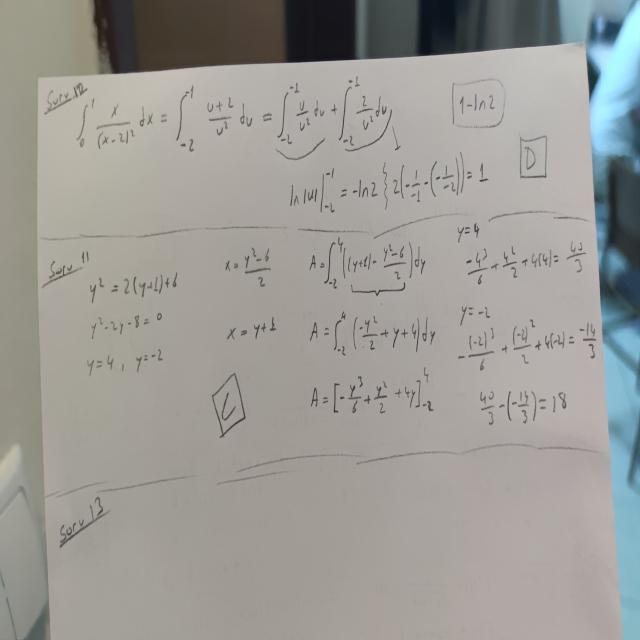math: (81, 75, 396, 156), (288, 151, 488, 229), (455, 303, 600, 376), (86, 266, 182, 375), (451, 220, 592, 293), (308, 364, 437, 429), (308, 233, 429, 301), (307, 306, 438, 359), (475, 384, 570, 436), (221, 310, 281, 350), (224, 244, 274, 290), (456, 87, 503, 130)
